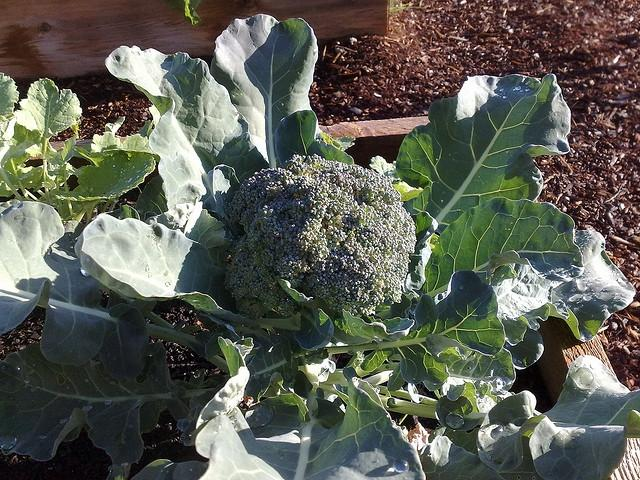broccoli: (223, 153, 416, 318)
